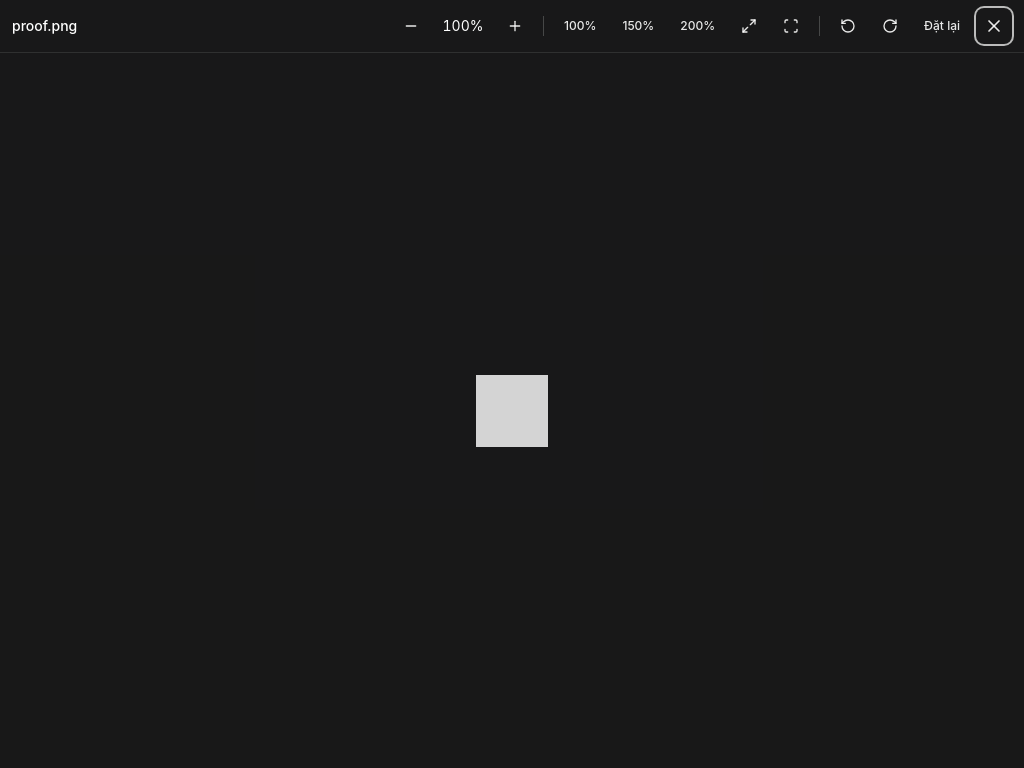
Test: ImageViewer — zoom › applies zoom presets
Click the button "150%".
click(638, 26)  # box [612, 8, 664, 44]
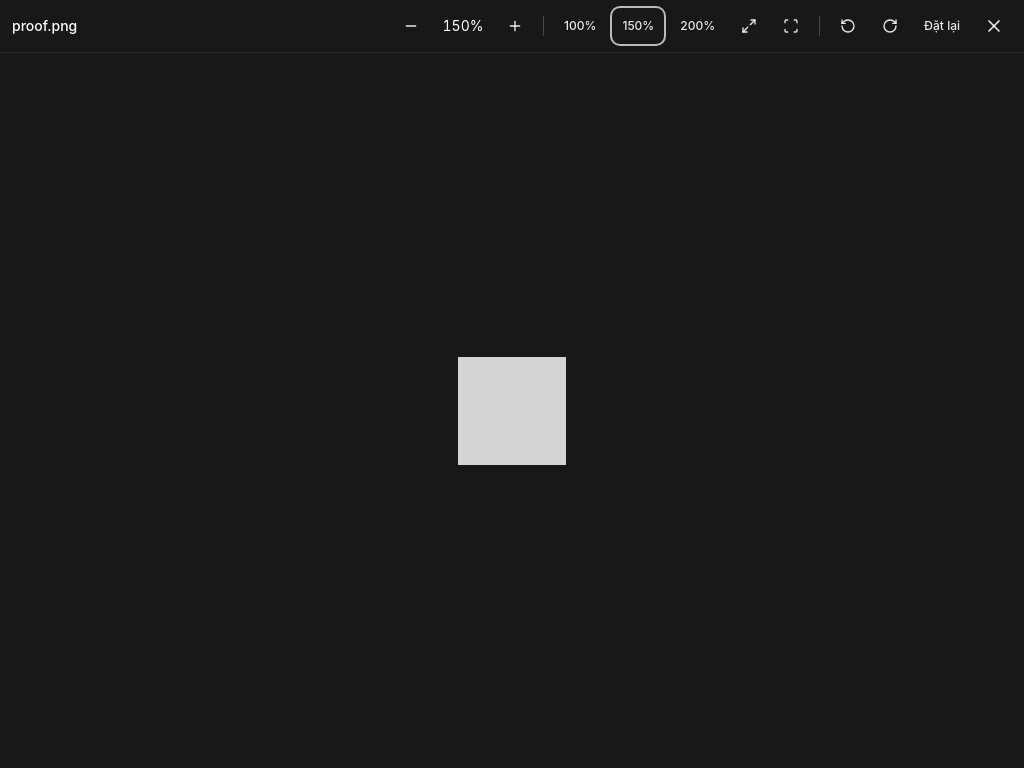
Result: the message reads "150%" at [442, 17, 484, 34]
Click the button "200%".
click(698, 26)  # box [670, 8, 725, 44]
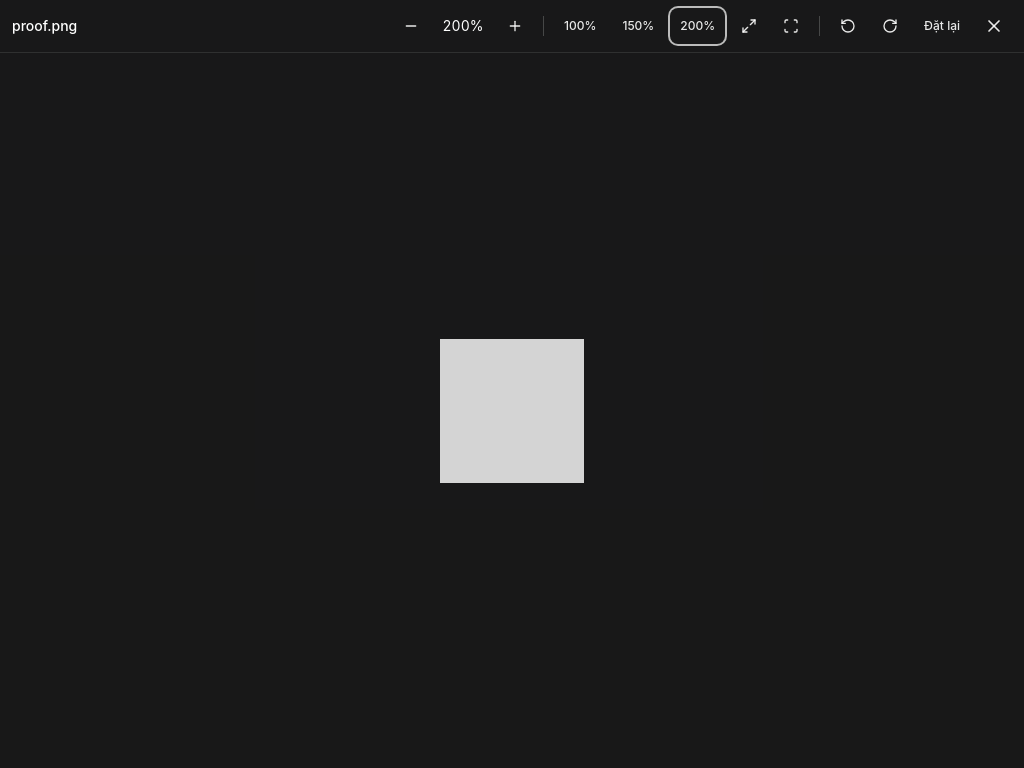
Result: the message reads "200%" at [442, 17, 484, 34]
